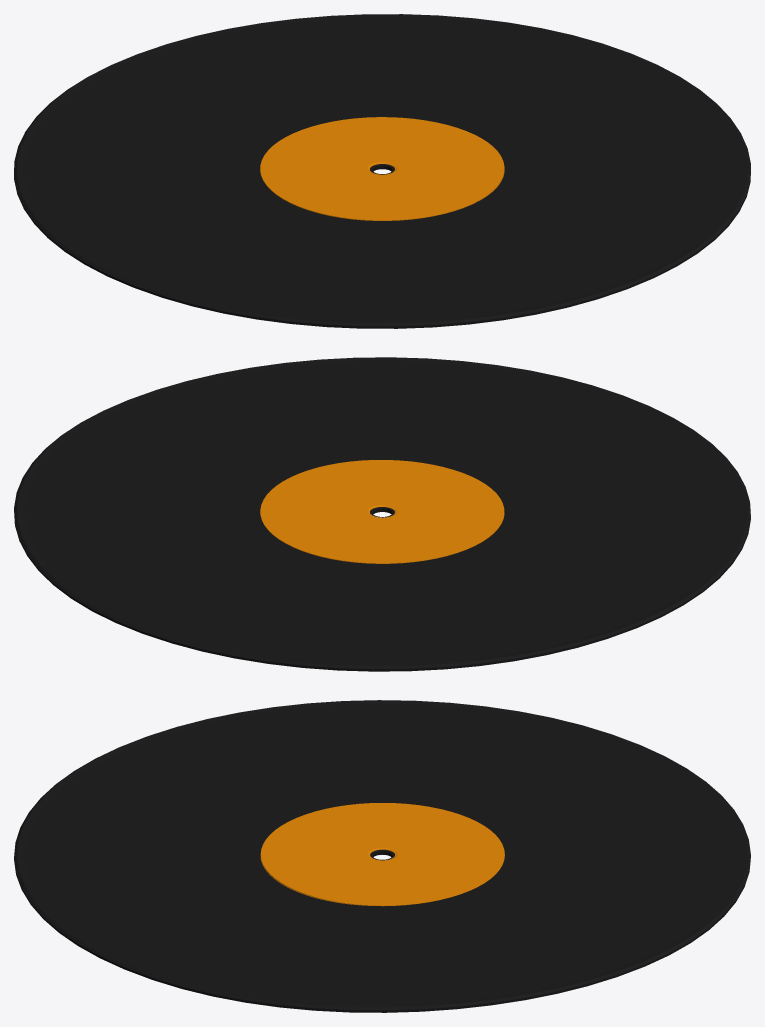
File: vinyl_01.glb
3 views of the same model, one above another, from view 1: azimuth 30°, elevation 25°; view 2: azimuth 150°, elevation 25°; view 3: azimuth 270°, elevation 25° (orthographic).
Visible parts, largest first — view 1: vinyl, vinylLabel; view 2: vinyl, vinylLabel; view 3: vinyl, vinylLabel.
Part boxes in pixels (bbox=[...]): vinyl: bbox=[14, 14, 750, 328]; vinylLabel: bbox=[260, 117, 504, 220]; vinyl: bbox=[14, 357, 750, 671]; vinylLabel: bbox=[260, 460, 504, 563]; vinyl: bbox=[14, 700, 750, 1012]; vinylLabel: bbox=[260, 803, 504, 906].
Size of the model in its own units: 0.2924 by 0.00333 by 0.2924.
